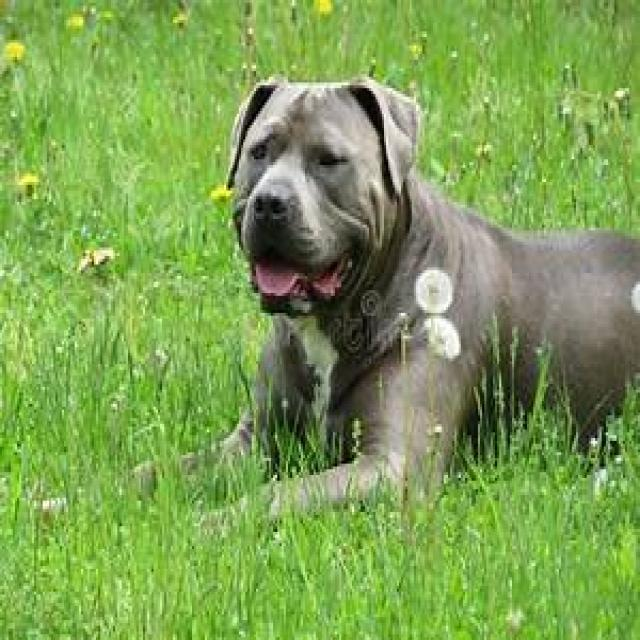dog: (226, 77, 640, 489)
